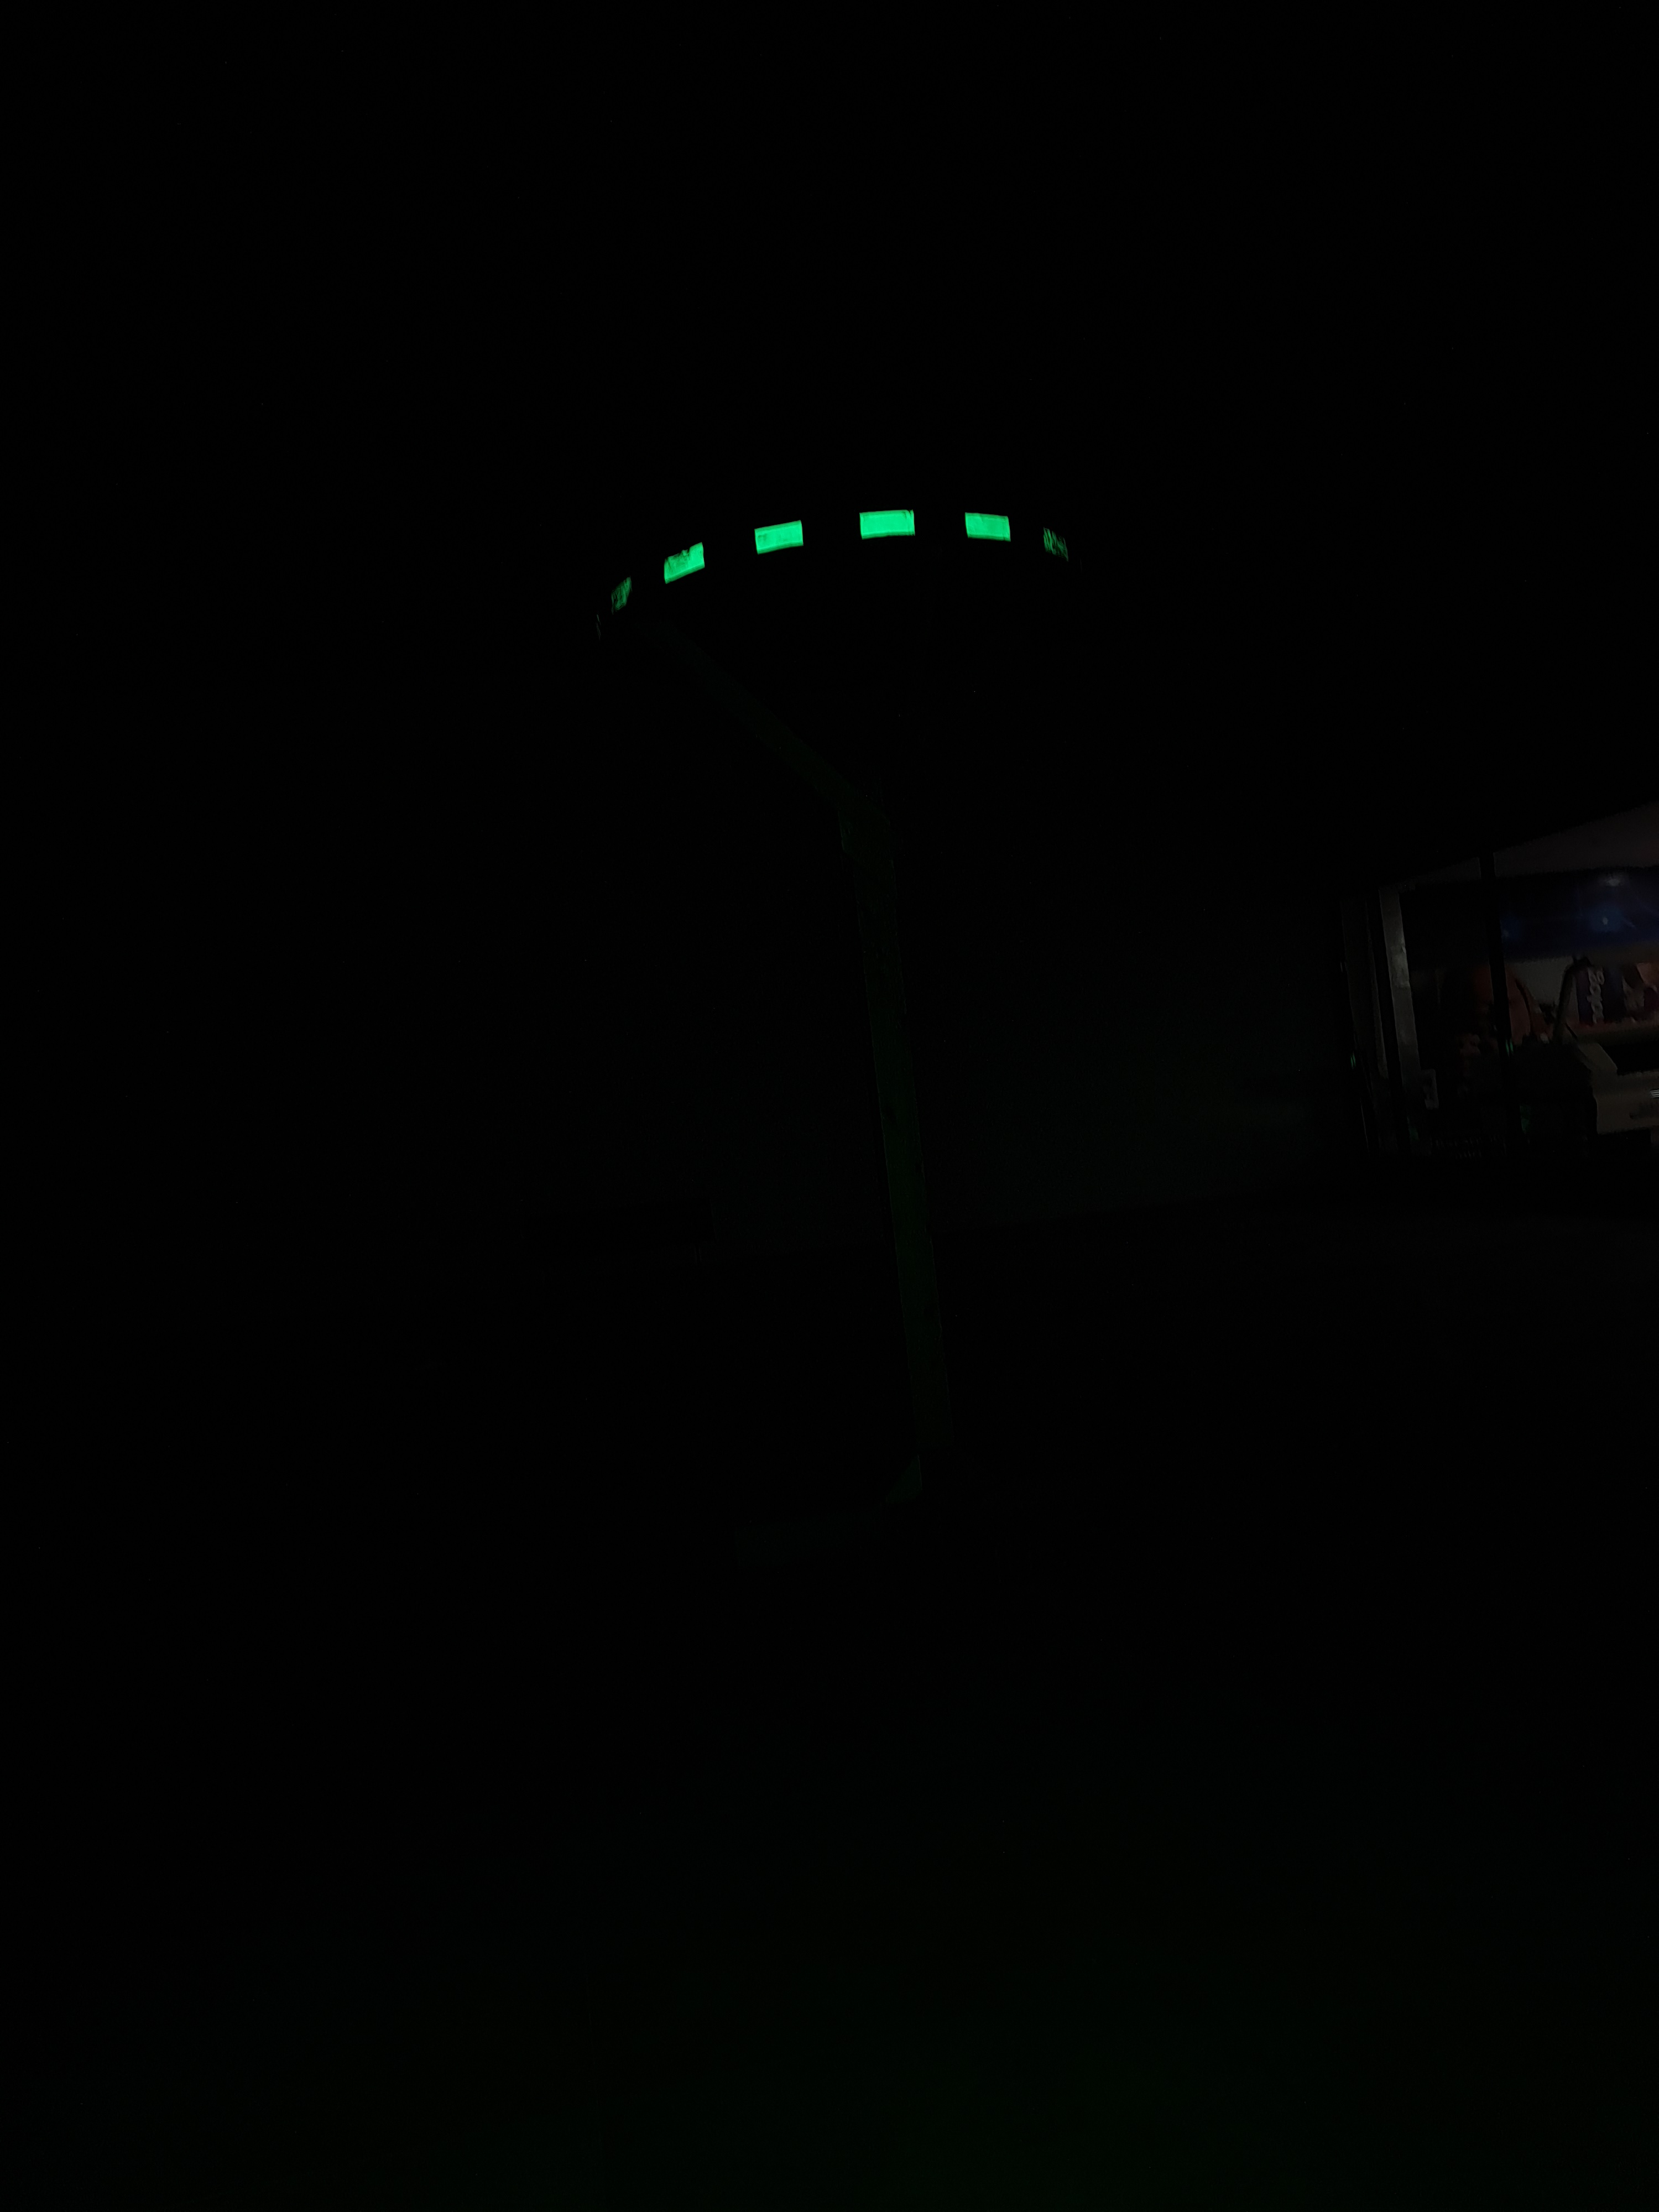hoop: (586, 493, 1093, 637)
